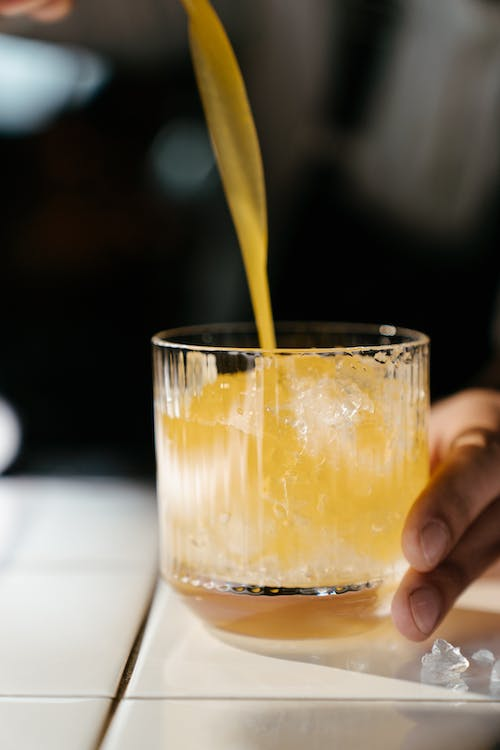alcohol: (149, 316, 432, 644)
